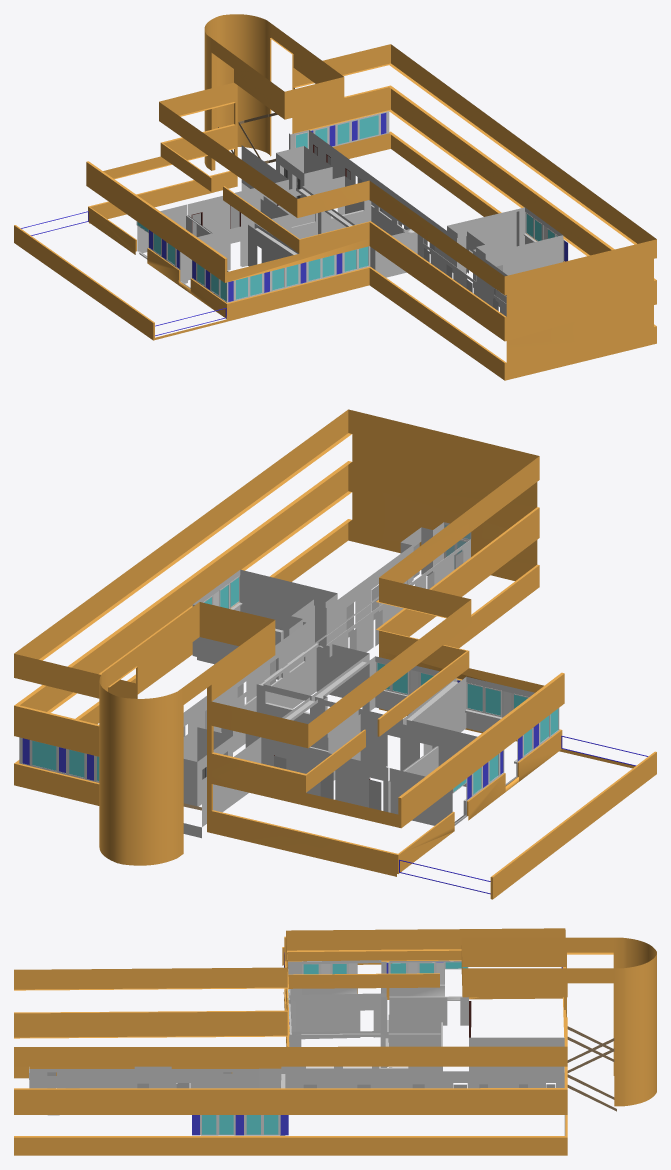
The picture shows the model from 3 angles, top to bottom: view 1: azimuth 30°, elevation 25°; view 2: azimuth 150°, elevation 25°; view 3: azimuth 270°, elevation 25°; orthographic projection. The views are drawn at different scales.
Parts seen in each view (by area): view 1: stena039.001, stena039, stena039.146, stena039.085, stena039.192, stena039.469, stena039.086, stena039.205, stena039.336, stena039.596, stena039.158, stena039.159 (+3 smaller); view 2: stena039.001, stena039, stena039.085, stena039.192, stena039.086, stena039.146, stena039.205, stena039.159, stena039.158, stena039.336, stena039.469, stena039.596 (+2 smaller); view 3: stena039.001, stena039, stena039.086, stena039.085, stena039.192, stena039.002, stena039.158, stena039.146, stena039.205, stena039.333, stena039.209, stena039.159 (+2 smaller).
Part boxes in pixels (<box>): stena039.001: <box>86,14,656,333</box>; stena039: <box>14,102,656,380</box>; stena039.146: <box>447,207,563,275</box>; stena039.085: <box>187,145,506,316</box>; stena039.192: <box>254,200,417,277</box>; stena039.469: <box>227,246,370,302</box>; stena039.086: <box>309,130,507,306</box>; stena039.205: <box>180,225,293,288</box>; stena039.336: <box>295,111,389,148</box>; stena039.596: <box>276,146,332,198</box>; stena039.158: <box>263,176,362,226</box>; stena039.159: <box>137,204,211,259</box>; stena039.001: <box>14,409,564,865</box>; stena039: <box>14,482,656,899</box>; stena039.085: <box>183,532,471,838</box>; stena039.192: <box>260,643,458,766</box>; stena039.086: <box>183,522,443,733</box>; stena039.146: <box>192,569,337,679</box>; stena039.205: <box>412,676,534,785</box>; stena039.159: <box>389,733,471,825</box>; stena039.158: <box>228,684,358,752</box>; stena039.336: <box>19,737,99,782</box>; stena039.469: <box>376,662,528,717</box>; stena039.596: <box>183,727,232,806</box>; stena039.001: <box>14,928,656,1106</box>; stena039: <box>14,947,567,1155</box>; stena039.086: <box>29,1071,564,1088</box>; stena039.085: <box>29,997,564,1088</box>; stena039.192: <box>288,997,388,1067</box>; stena039.002: <box>192,1115,288,1135</box>; stena039.158: <box>388,1014,440,1067</box>; stena039.146: <box>201,1068,285,1135</box>; stena039.205: <box>288,960,386,1003</box>; stena039.333: <box>567,1026,616,1111</box>; stena039.209: <box>386,961,468,984</box>; stena039.159: <box>389,960,468,1000</box>.
Size of the model in its own units: 3100 by 1097 by 4378.
